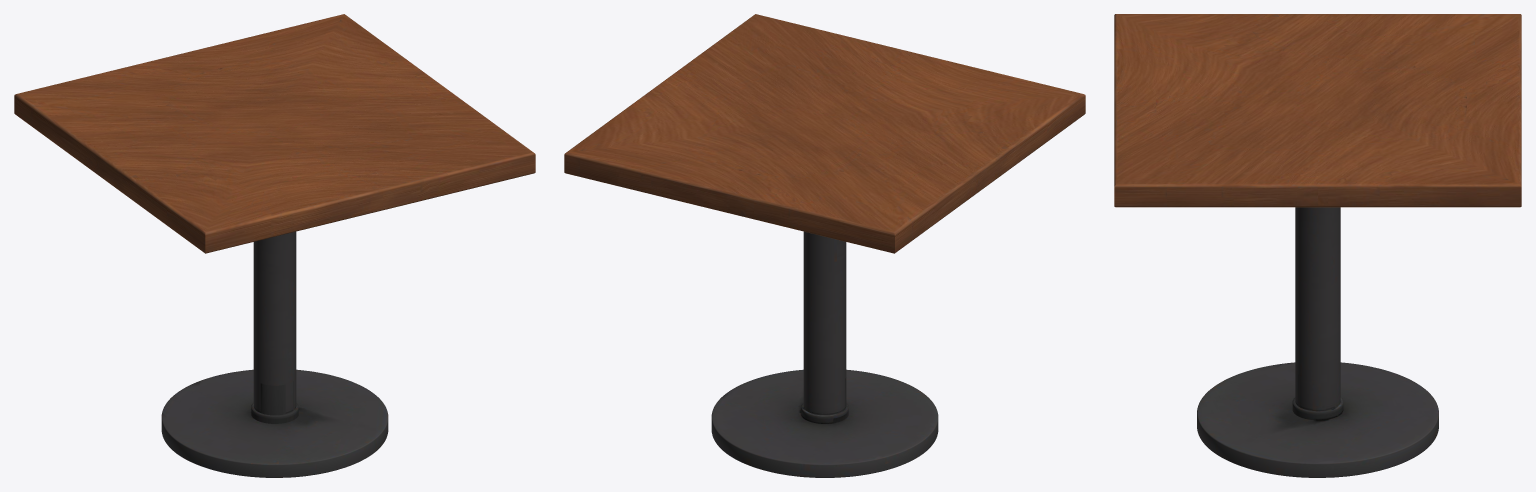
Rendered from table-brown-square.glb.
3 views of the same model, side by side, from view 1: azimuth 30°, elevation 25°; view 2: azimuth 150°, elevation 25°; view 3: azimuth 270°, elevation 25° (orthographic). The views are drawn at different scales.
Parts seen in each view (by area): view 1: node_0; view 2: node_0; view 3: node_0.
Boxes of the visible parts, left/top/right/bottom form: node_0: left=14, top=14, right=535, bottom=477; node_0: left=564, top=14, right=1085, bottom=477; node_0: left=1114, top=14, right=1521, bottom=477.
Bounding box in the file's own units: 0.9 × 0.8 × 0.9.
Materials: 1 (1 with a texture image).
